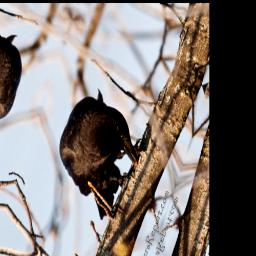Crow: (43, 74, 153, 231)
